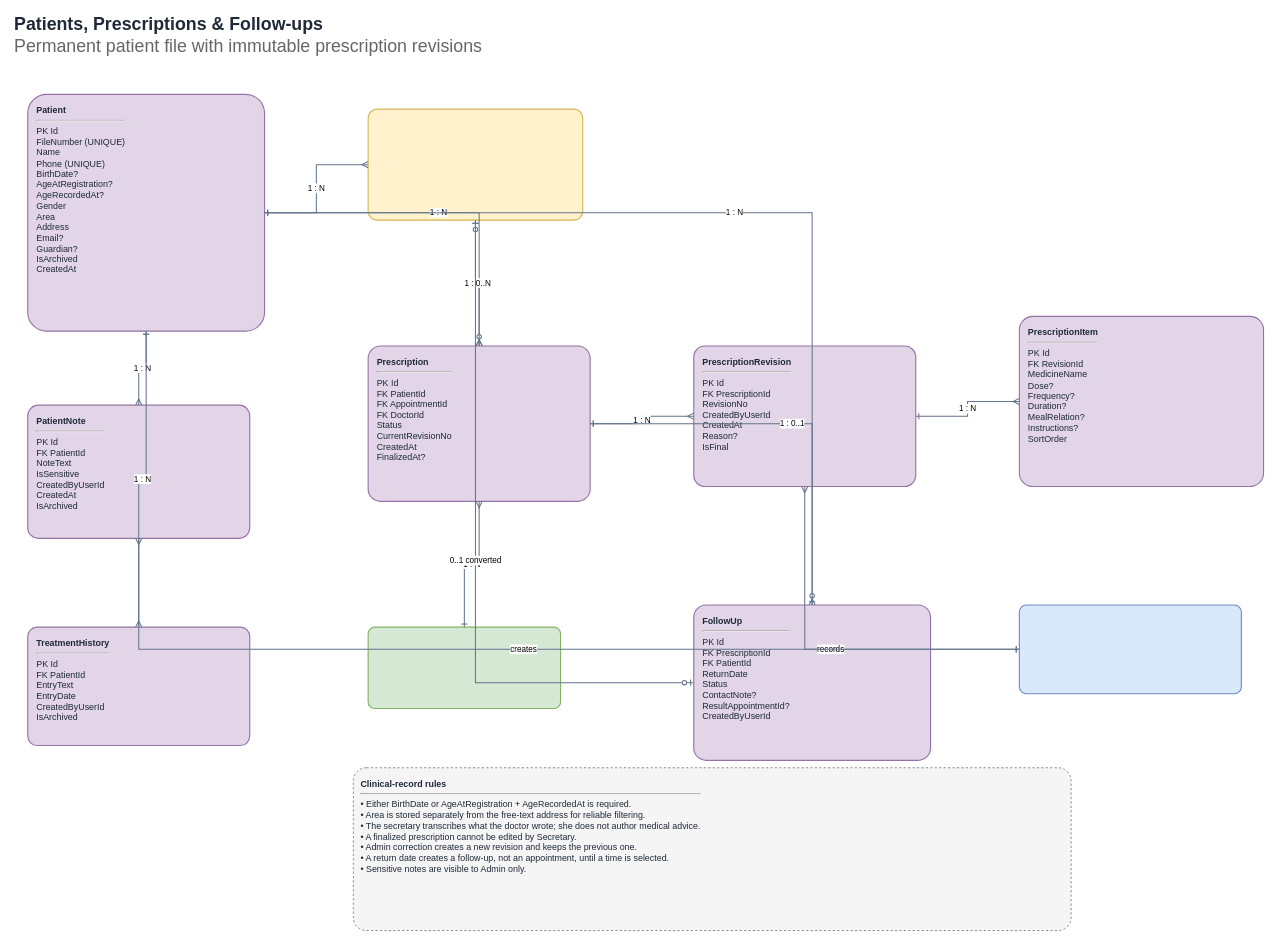
The diagram is 1277 pixels wide and 944 high, and some of its shapes have lost their labels. The centre of each missing label's shape, as x and y in pixels:
ApplicationUser (reference) PK Id Name Role Status: the point at 1130,649
Appointment (reference) PK Id FK PatientId FK DoctorId StartDateTime Status: the point at 475,164
Doctor (reference) PK Id Name IsActive: the point at 464,667
